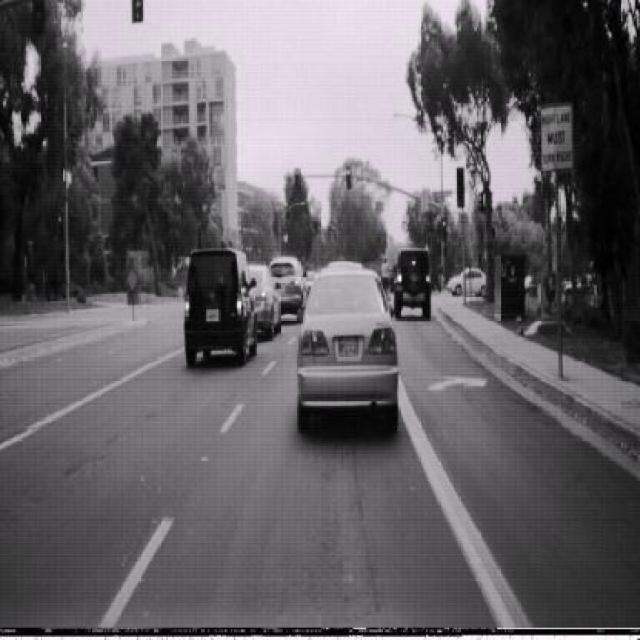rightLaneMustTurn: (540, 101, 575, 176)
